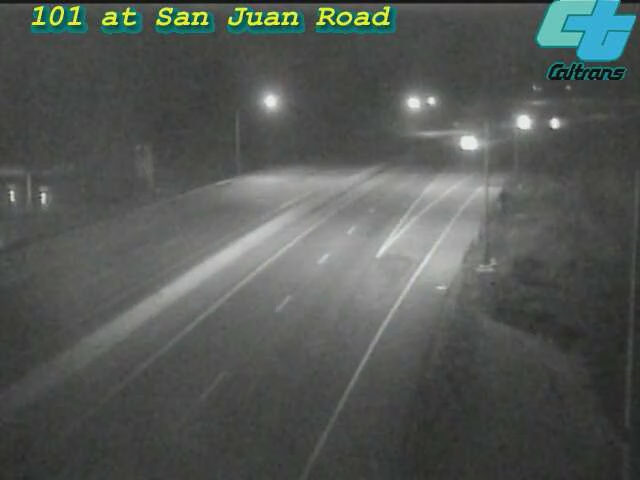vehicle: (532, 97, 582, 147), (496, 97, 546, 147), (442, 118, 492, 168)
